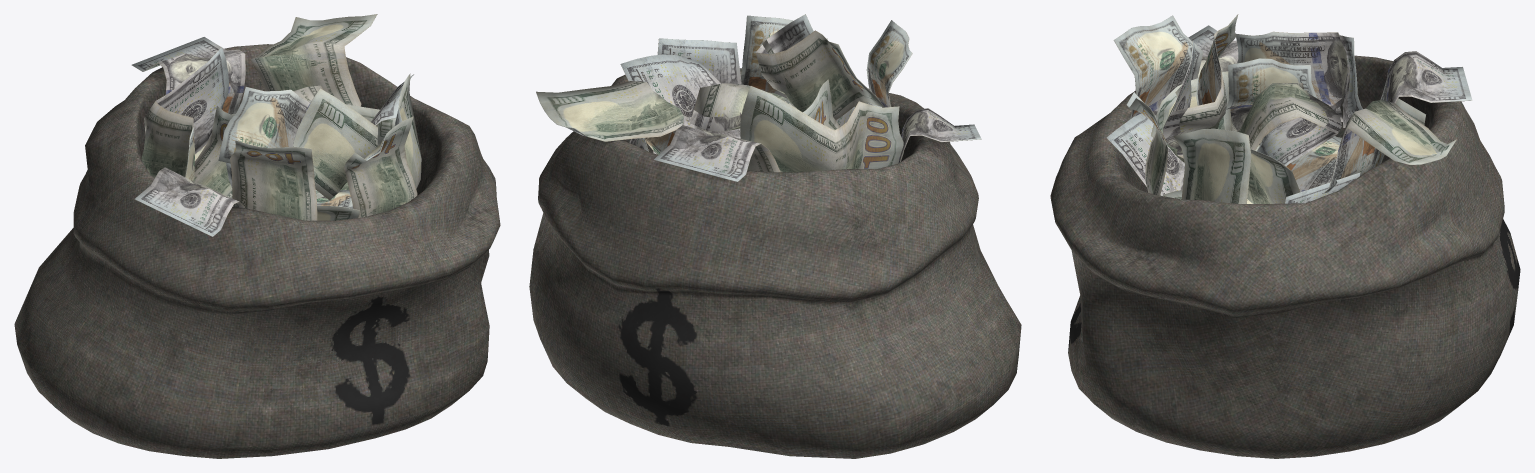
File: bag_of_money.glb
The picture shows the model from 3 angles, left to right: view 1: azimuth 30°, elevation 25°; view 2: azimuth 150°, elevation 25°; view 3: azimuth 270°, elevation 25°; orthographic projection. The views are drawn at different scales.
Visible parts, largest first — view 1: Sphere; view 2: Sphere; view 3: Sphere.
Part boxes in pixels (x1,y1,x2,y2): Sphere: (14, 14, 500, 458); Sphere: (529, 14, 1021, 458); Sphere: (1050, 14, 1520, 458).
Size of the model in its own units: 0.1147 by 0.084 by 0.1037.
1 material, 1 textured.
